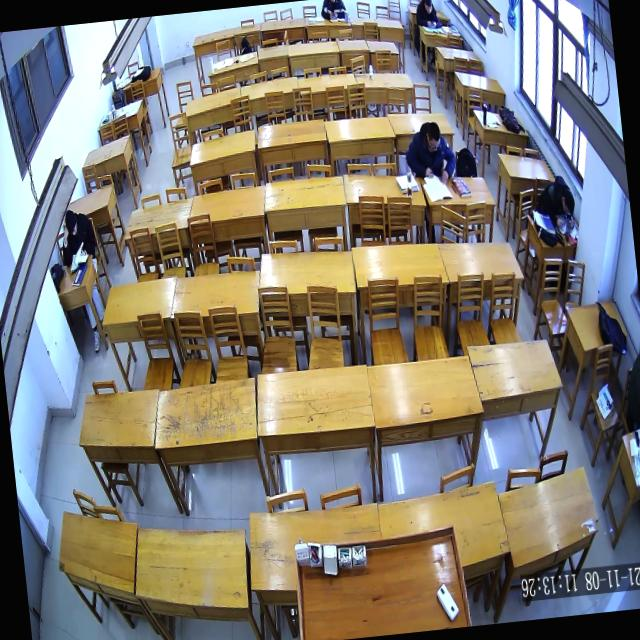down: (424, 119, 444, 155), (558, 188, 576, 219), (62, 208, 80, 238), (422, 0, 434, 16)
sit: (401, 116, 458, 190), (531, 173, 578, 232), (56, 204, 99, 268), (413, 0, 441, 31)
